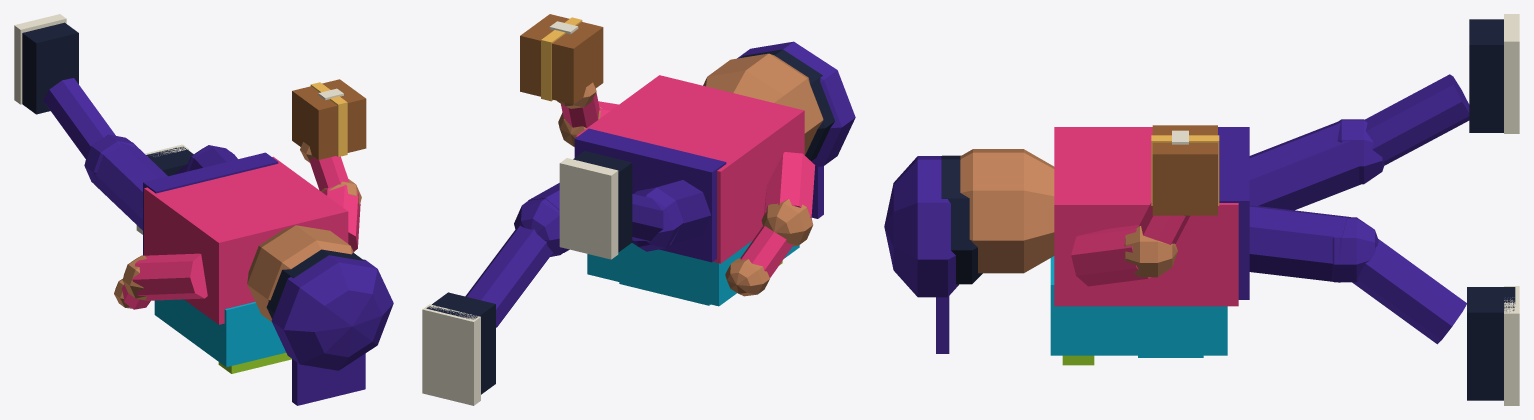
Rendered from ParcelPanicCourier.obj.
3 views of the same model, side by side, from view 1: azimuth 30°, elevation 25°; view 2: azimuth 150°, elevation 25°; view 3: azimuth 270°, elevation 25° (orthographic). The views are drawn at different scales.
Parts seen in each view (by area): view 1: Jacket, Backwards_cap_crown, Delivery_backpack, Held_parcel, Left_trainer, Head, Left_thigh, Left_upper_arm, Left_shin, Backwards_cap_brim, Jacket_hem, Left_sole (+9 smaller); view 2: Jacket, Jacket_hem, Delivery_backpack, Left_sole, Right_sole, Held_parcel, Head, Right_shin, Backwards_cap_crown, Right_trainer, Left_upper_arm, Left_thigh (+12 smaller); view 3: Jacket, Head, Delivery_backpack, Backwards_cap_crown, Left_thigh, Right_thigh, Held_parcel, Right_shin, Left_shin, Right_trainer, Left_trainer, Jacket_hem (+10 smaller).
Boxes of the visible parts, x1,y1,x2,y2 form: Jacket: (144,156,348,324); Backwards_cap_crown: (271,255,393,370); Delivery_backpack: (154,299,285,367); Held_parcel: (292,79,366,159); Left_trainer: (22,22,78,114); Head: (247,225,353,321); Left_thigh: (92,142,167,230); Left_upper_arm: (132,253,207,300); Left_shin: (43,78,115,159); Backwards_cap_brim: (292,353,365,405); Jacket_hem: (143,152,278,255); Left_sole: (14,14,66,104); Jacket: (575,75,804,263); Jacket_hem: (574,128,726,262); Delivery_backpack: (587,240,799,306); Left_sole: (559,158,618,259); Right_sole: (422,304,480,405); Held_parcel: (520,14,603,104); Head: (703,53,823,155); Right_shin: (465,225,552,327); Backwards_cap_crown: (737,41,855,166); Right_trainer: (426,292,495,394); Left_upper_arm: (764,152,815,218); Left_thigh: (655,180,711,244); Jacket: (1054,127,1238,306); Head: (960,149,1054,273); Delivery_backpack: (1050,256,1227,355); Backwards_cap_crown: (884,156,958,297); Left_thigh: (1249,121,1360,210); Right_thigh: (1249,205,1350,282); Held_parcel: (1152,125,1217,215); Right_shin: (1352,239,1466,344); Left_shin: (1364,74,1469,165); Right_trainer: (1467,287,1515,400); Left_trainer: (1469,19,1503,132); Jacket_hem: (1218,127,1249,299).
Bounding box in the file's own units: 1.38 × 1.32 × 2.62.
